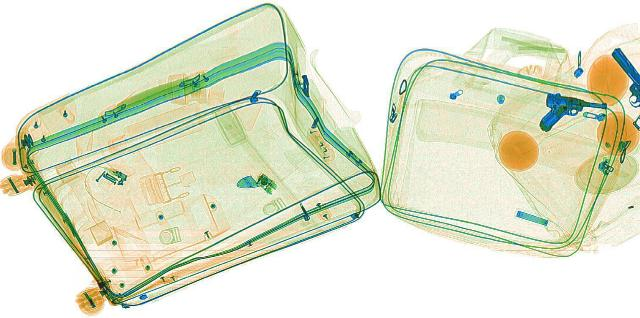Gun: (528, 91, 612, 135)
